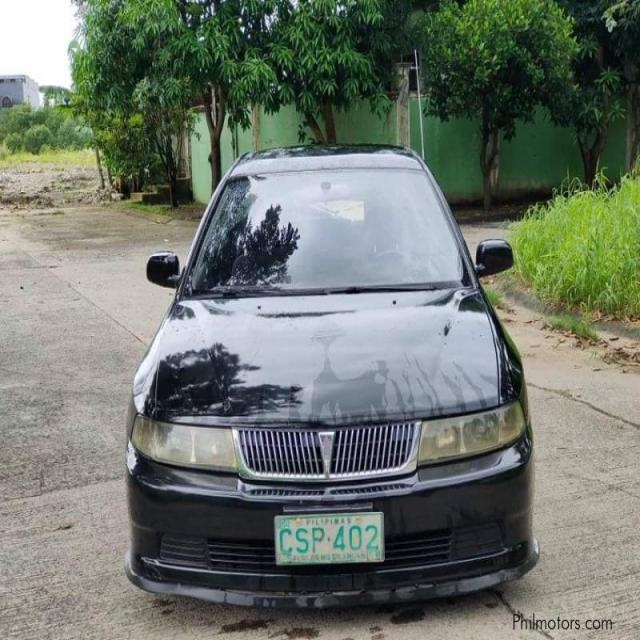number: (274, 512, 384, 565)
